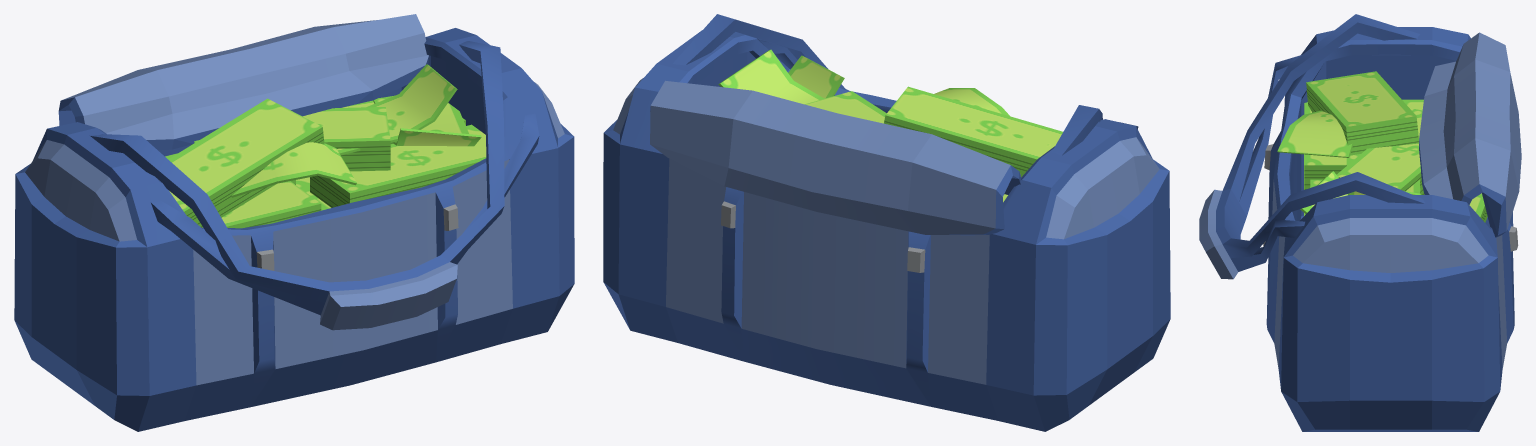
Rendered from SM_Item_DuffleBag_Open_Full_01.fbx.
3 views of the same model, side by side, from view 1: azimuth 30°, elevation 25°; view 2: azimuth 150°, elevation 25°; view 3: azimuth 270°, elevation 25° (orthographic). The views are drawn at different scales.
Parts seen in each view (by area): view 1: SM_Item_DuffleBag_Open_Full_01; view 2: SM_Item_DuffleBag_Open_Full_01; view 3: SM_Item_DuffleBag_Open_Full_01.
Part boxes in pixels (bbox=[...]): SM_Item_DuffleBag_Open_Full_01: bbox=[14, 14, 574, 431]; SM_Item_DuffleBag_Open_Full_01: bbox=[603, 14, 1170, 431]; SM_Item_DuffleBag_Open_Full_01: bbox=[1199, 14, 1521, 431].
Bounding box in the file's own units: 0.574 × 0.3055 × 0.3664.
1 material, 1 textured.
